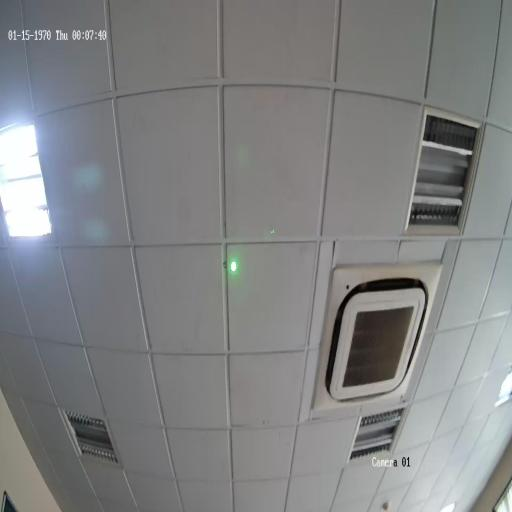laser: (230, 258, 238, 274)
